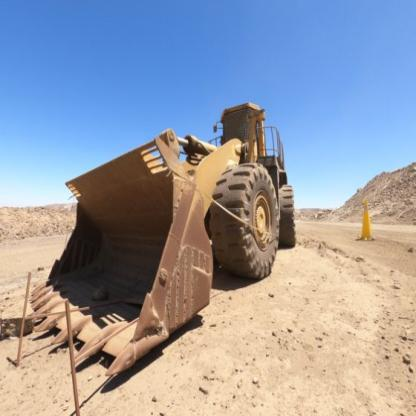bull_dozer/loader/grader: (24, 90, 304, 376)
